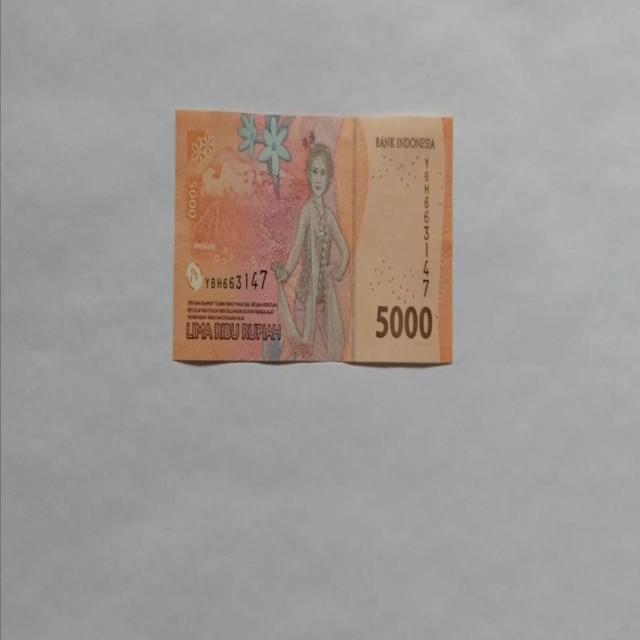lima ribu rupiah: (172, 108, 454, 366), (269, 142, 351, 360)
